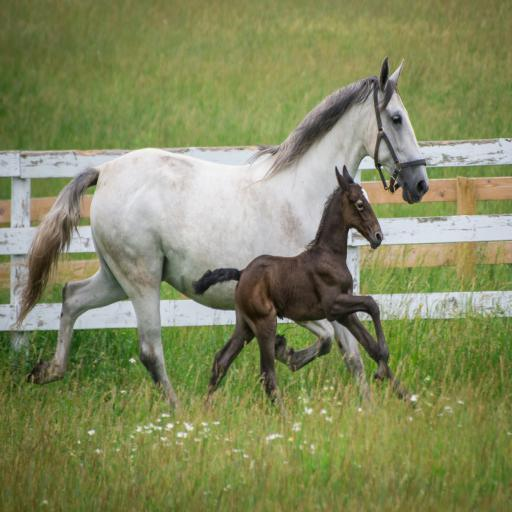horse: (10, 53, 432, 408), (190, 162, 412, 404)
